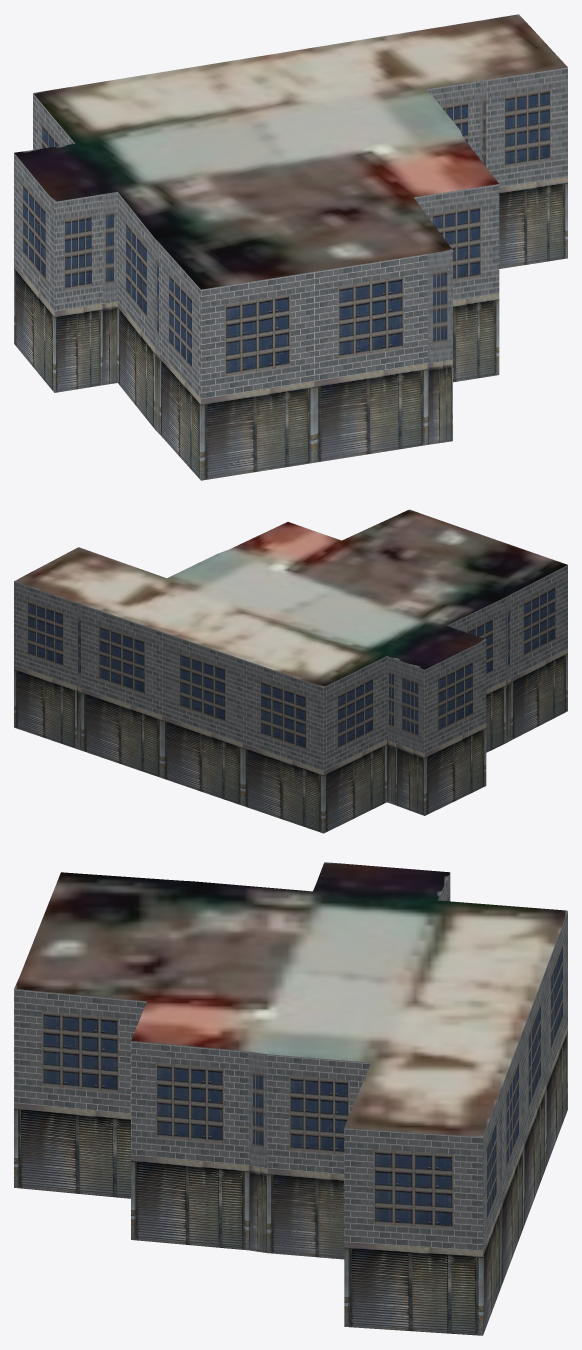
The model's file is T_1T91S4PGE3.dae.
3 renders of one model, top to bottom at view 1: azimuth 30°, elevation 25°; view 2: azimuth 150°, elevation 25°; view 3: azimuth 270°, elevation 25°, orthographic. The views are drawn at different scales.
Visible parts, largest first — view 1: SketchUp (×22); view 2: SketchUp (×18); view 3: SketchUp (×15).
Boxes of the visible parts, x1,y1,x2,y2 form: SketchUp (×22): (14,14,567,480); SketchUp (×18): (14,509,567,833); SketchUp (×15): (14,862,567,1335).
Size of the model in its own units: 22.95 by 19.56 by 7.75.
Materials: 3 (3 with a texture image).
